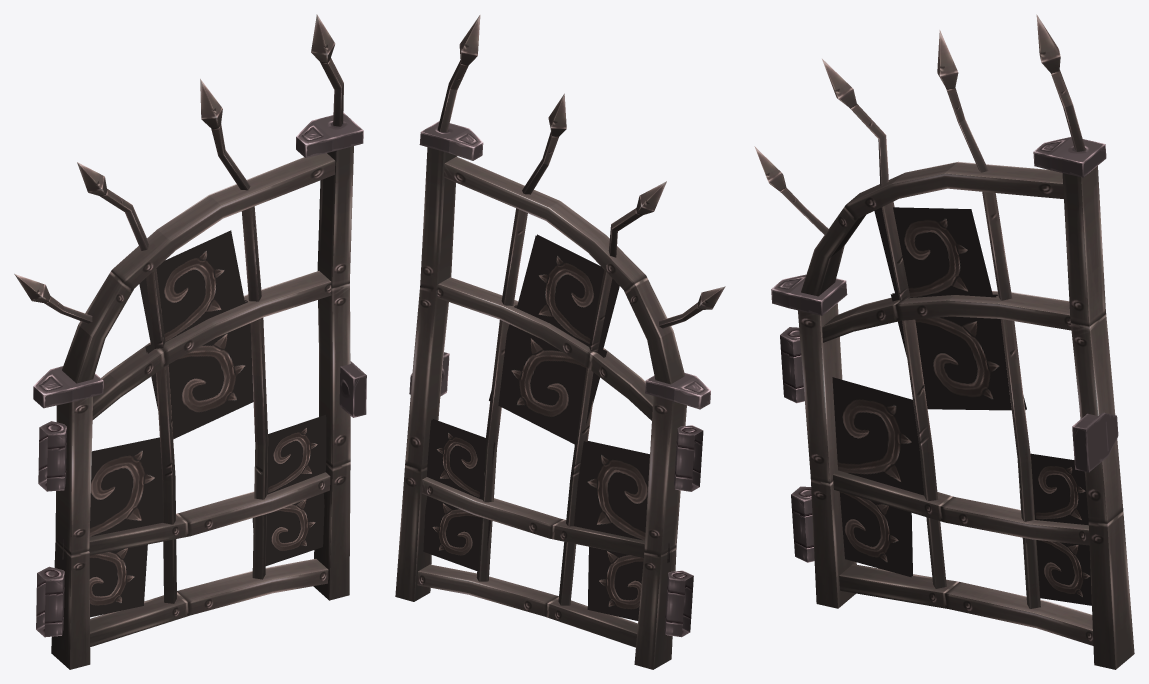
File: fence_gate_l.fbx
3 renders of one model, left to right at view 1: azimuth 30°, elevation 25°; view 2: azimuth 150°, elevation 25°; view 3: azimuth 330°, elevation 25°, orthographic. The views are drawn at different scales.
Parts seen in each view (by area): view 1: fence_gate_l; view 2: fence_gate_l; view 3: fence_gate_l.
Part boxes in pixels (left/top/right/bottom): fence_gate_l: left=14, top=14, right=366, bottom=669; fence_gate_l: left=395, top=15, right=725, bottom=669; fence_gate_l: left=754, top=14, right=1134, bottom=669.
Bounding box in the file's own units: 4.94 × 8.69 × 1.13.
